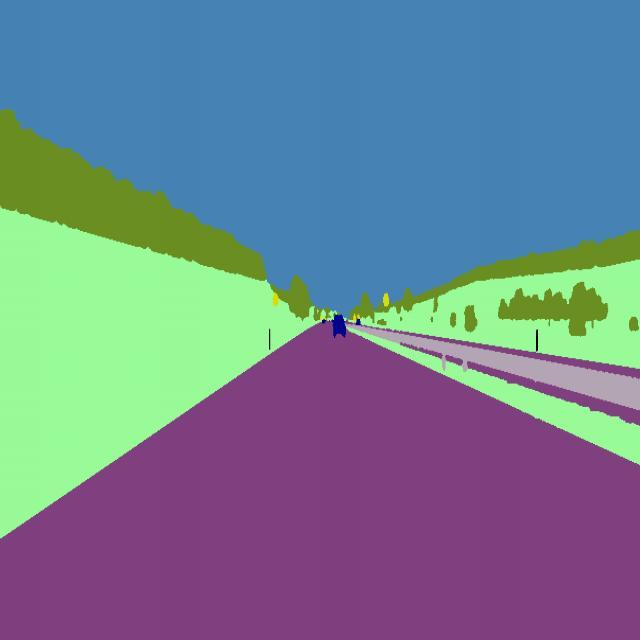safe: (331, 310, 348, 342)
